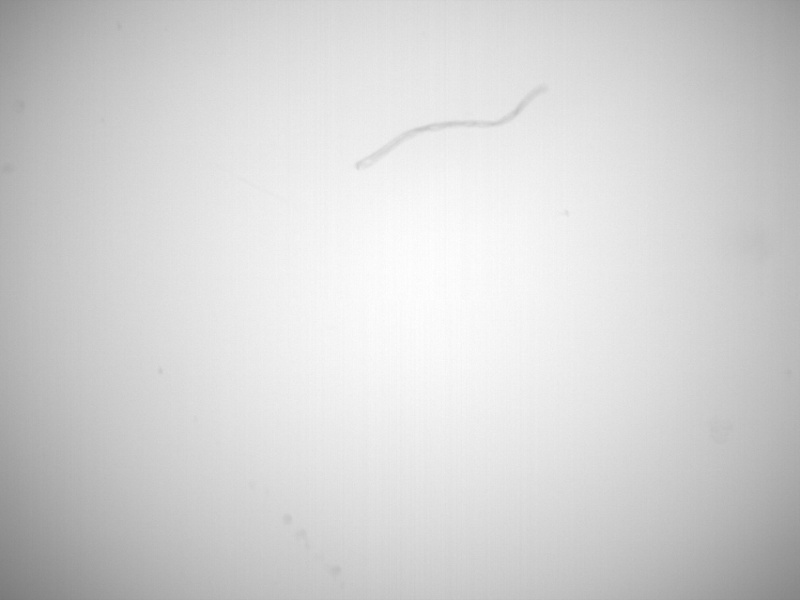fiber: (355, 80, 547, 168)
